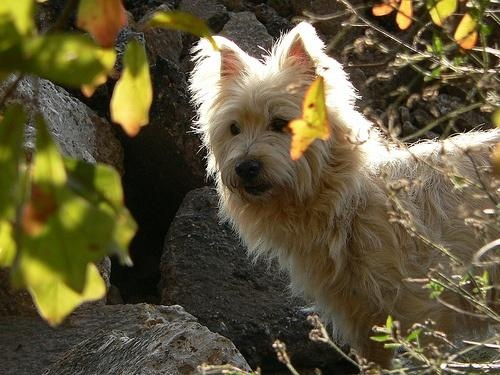dog: (188, 27, 500, 373)
